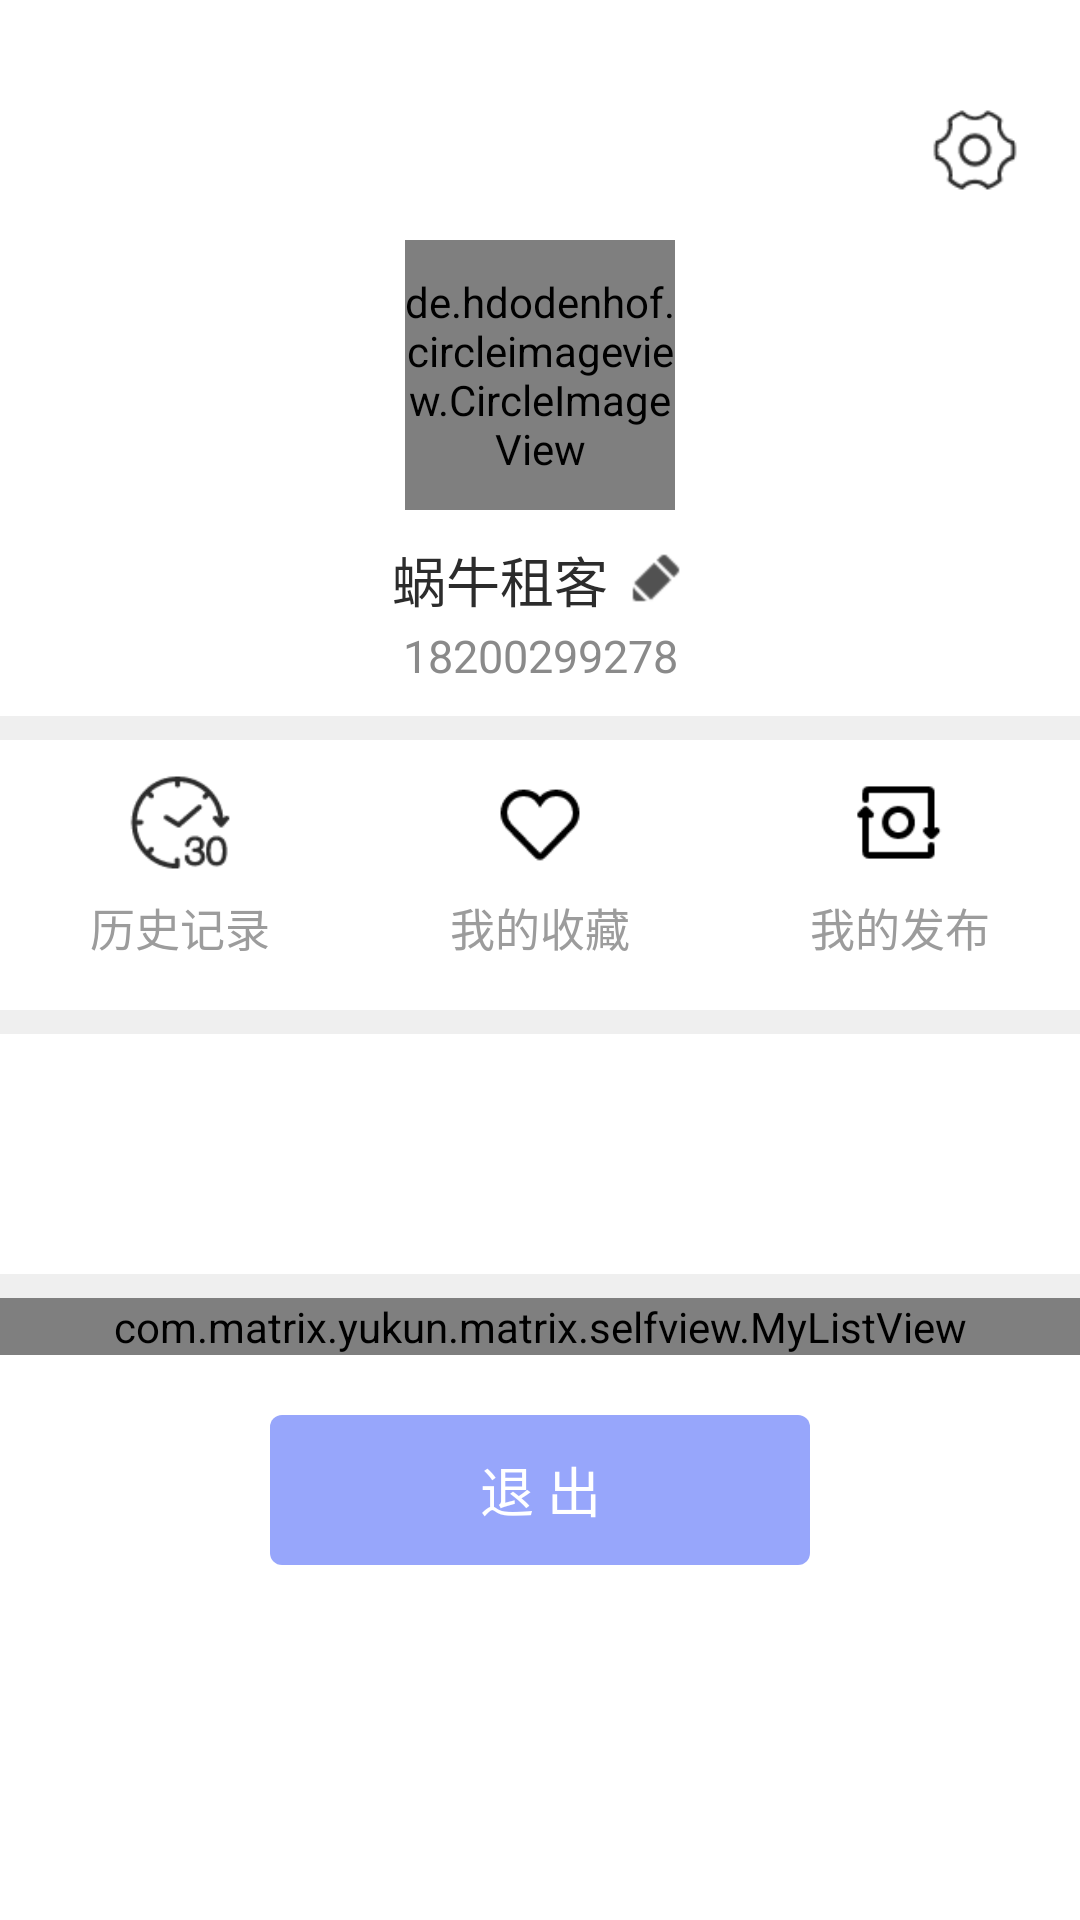

Icon bounding boxes for this 1080*1920 phone screenshot, format bbox=(x1, y1, x2, y2):
setting: bbox=(933, 110, 1017, 190)
